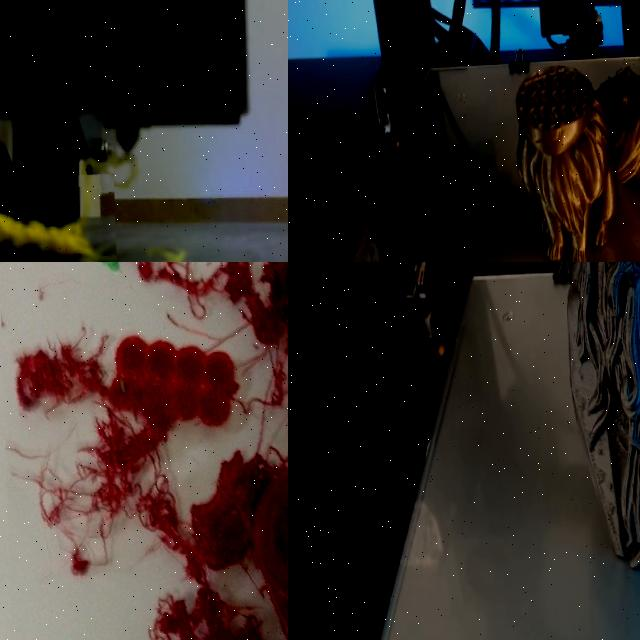spaghetti: (0, 262, 288, 640), (0, 212, 116, 262), (80, 153, 136, 186)
